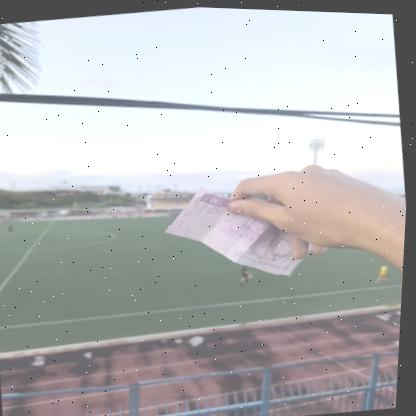one_hundred-back-vef: (157, 168, 322, 290)
